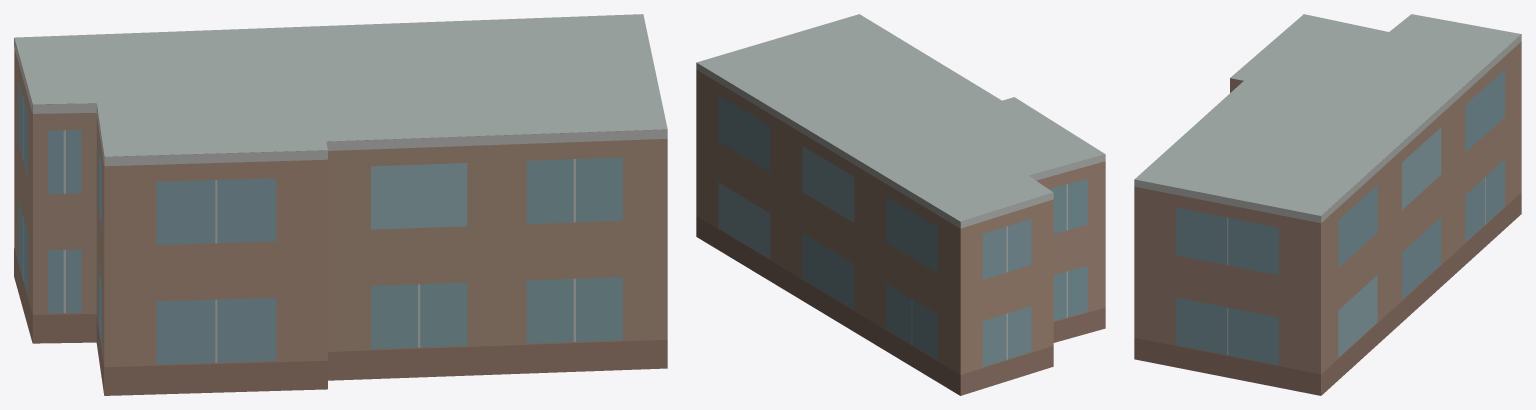
The model's file is survey-upis-32940834.glb.
3 views of the same model, side by side, from view 1: azimuth 30°, elevation 25°; view 2: azimuth 150°, elevation 25°; view 3: azimuth 270°, elevation 25° (orthographic). The views are drawn at different scales.
Parts seen in each view (by area): view 1: survey-upis-32940834.tmp; view 2: survey-upis-32940834.tmp; view 3: survey-upis-32940834.tmp.
Part boxes in pixels (left/top/right/bottom): survey-upis-32940834.tmp: left=14, top=14, right=667, bottom=395; survey-upis-32940834.tmp: left=696, top=14, right=1105, bottom=395; survey-upis-32940834.tmp: left=1134, top=14, right=1521, bottom=395.
Size of the model in its own units: 14.7 by 6.1 by 11.91.
